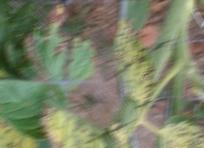Tomato Septoria leaf spot: (0, 43, 57, 148), (40, 89, 122, 148), (110, 14, 161, 105), (154, 115, 204, 148)
